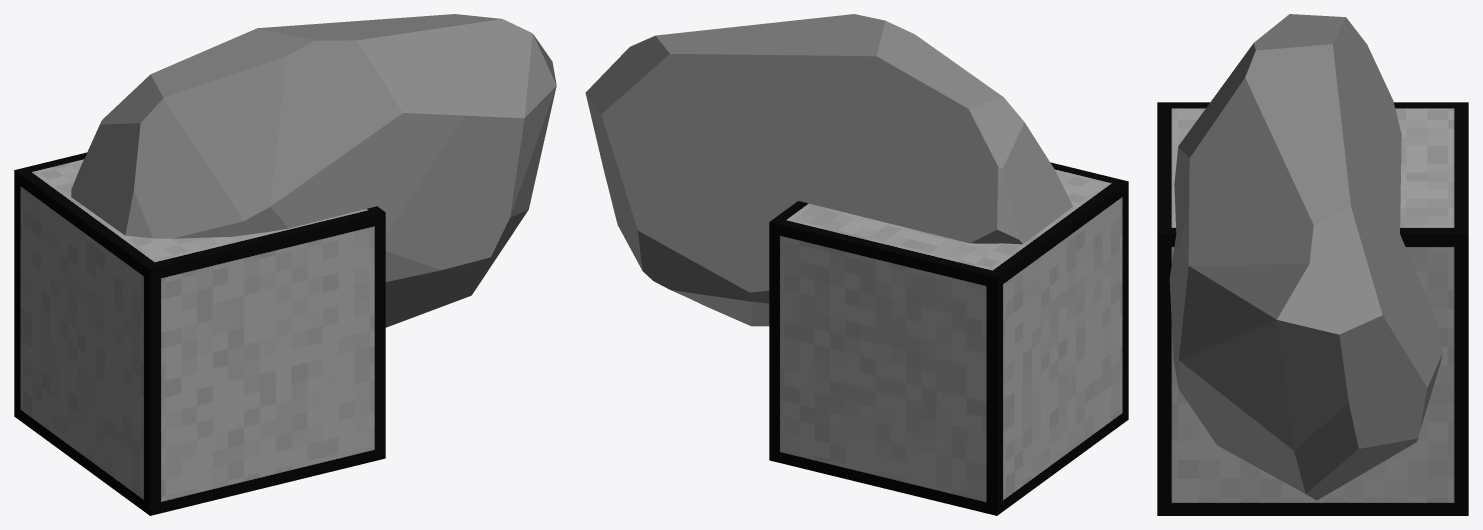
The model's file is Rock2TileStone.glb.
3 renders of one model, left to right at view 1: azimuth 30°, elevation 25°; view 2: azimuth 150°, elevation 25°; view 3: azimuth 270°, elevation 25°, orthographic. The views are drawn at different scales.
Parts seen in each view (by area): view 1: Stone_v2Baked, Sphere; view 2: Stone_v2Baked, Sphere; view 3: Sphere, Stone_v2Baked.
Part boxes in pixels (bbox=[...]): Stone_v2Baked: bbox=[14, 152, 385, 515]; Sphere: bbox=[71, 14, 556, 327]; Stone_v2Baked: bbox=[769, 162, 1128, 515]; Sphere: bbox=[585, 14, 1072, 326]; Sphere: bbox=[1169, 14, 1442, 500]; Stone_v2Baked: bbox=[1157, 102, 1468, 515].
Size of the model in its own units: 2.01 by 1.56 by 0.98.
Materials: 2 (1 with a texture image).
